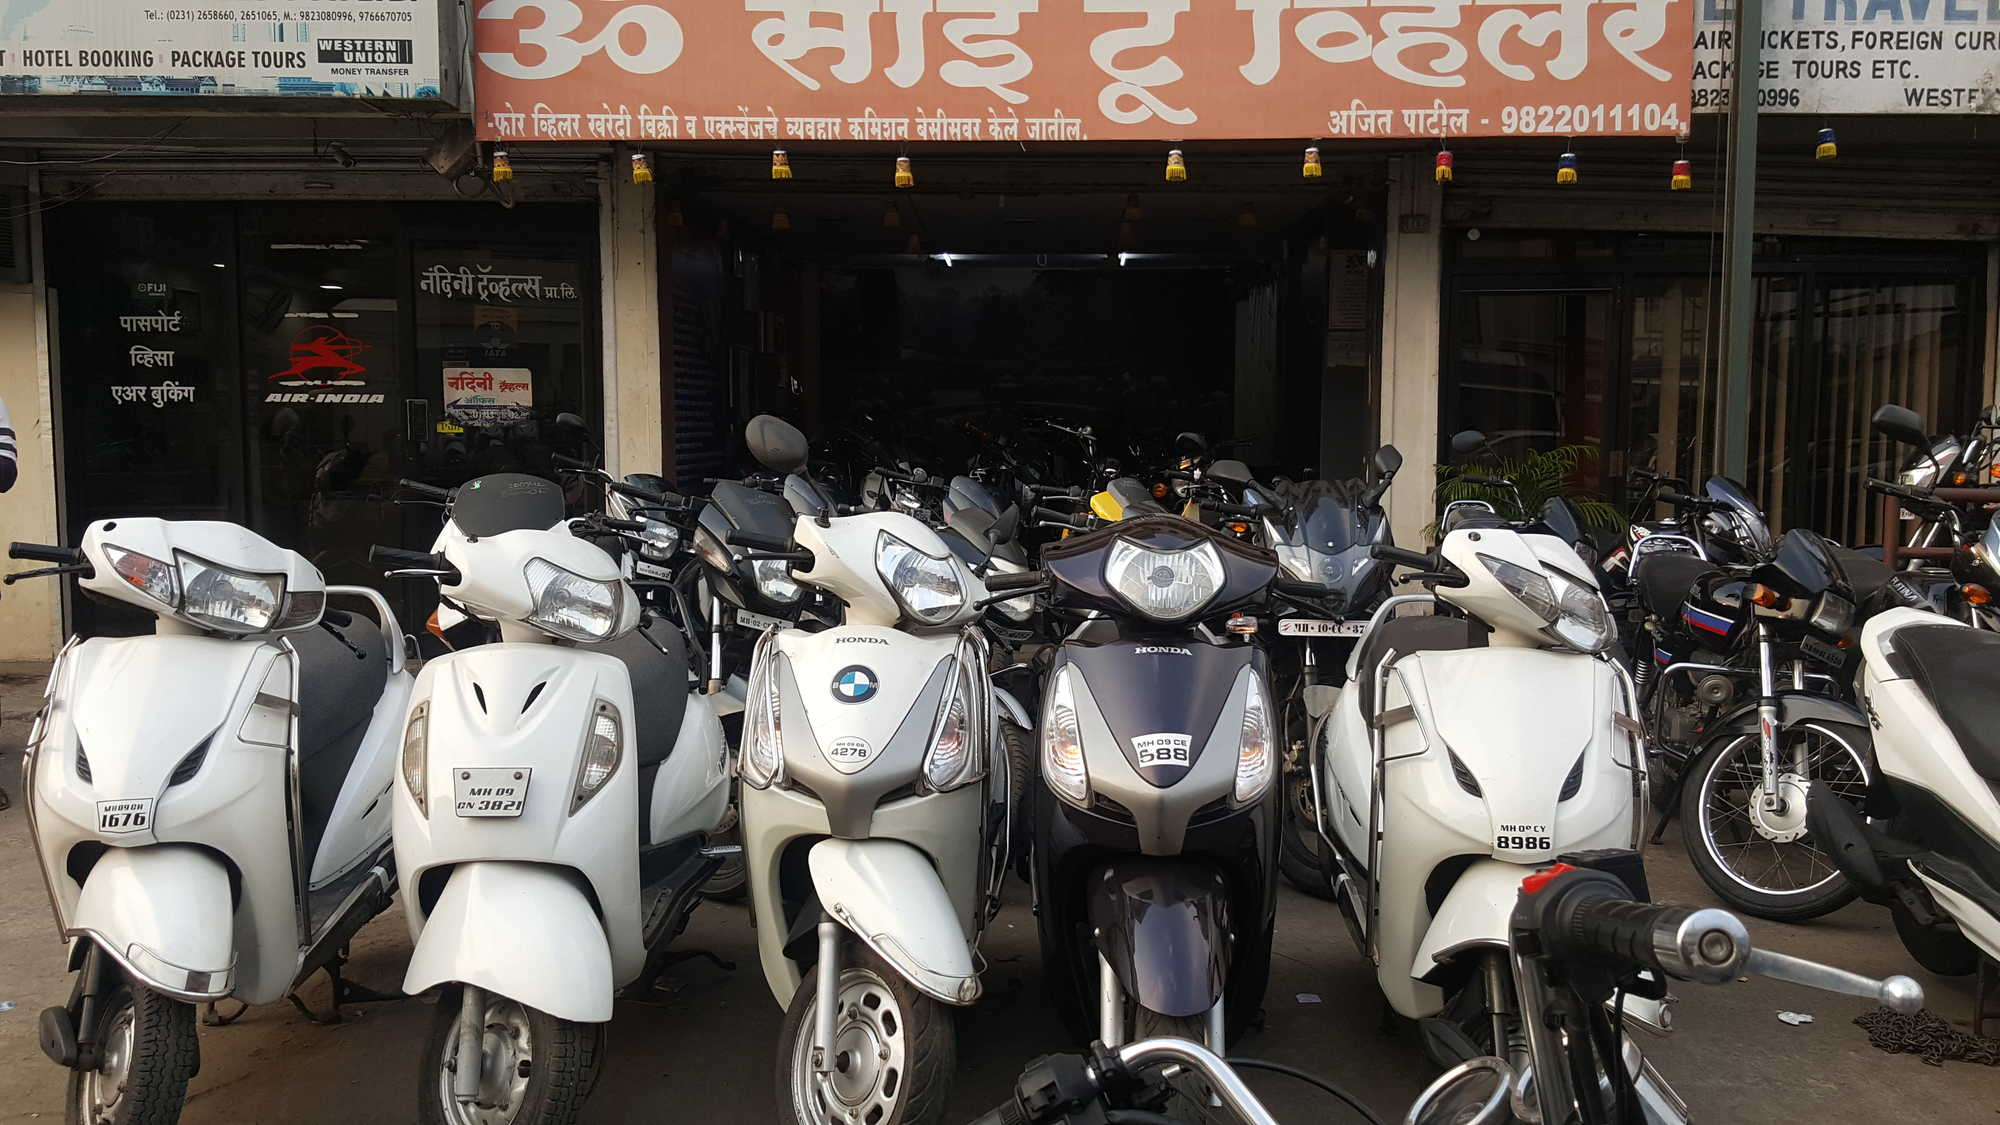Bike: (23, 512, 374, 1120), (359, 532, 717, 1124), (718, 527, 1029, 1125), (1033, 525, 1323, 1065), (1363, 543, 1668, 920)
